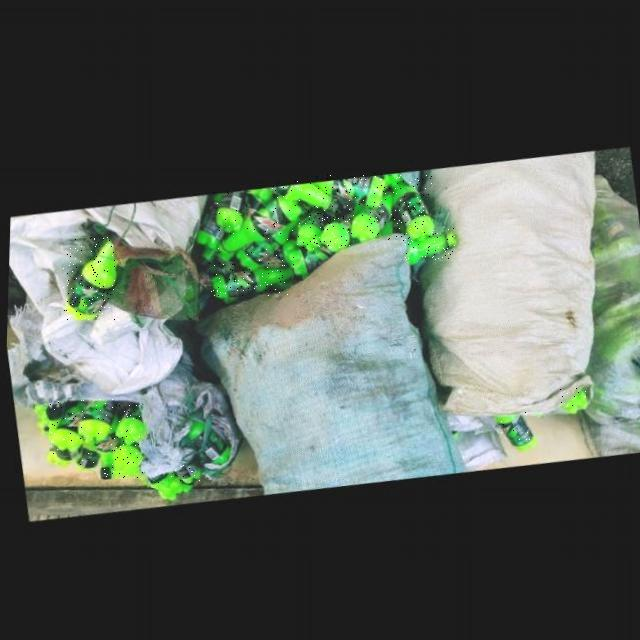plastic: (217, 192, 299, 251), (63, 237, 115, 319), (235, 215, 297, 267), (209, 263, 289, 297), (389, 175, 432, 237), (348, 187, 391, 239), (310, 172, 382, 202), (264, 180, 335, 208), (50, 399, 85, 452), (404, 228, 455, 261), (493, 409, 535, 446), (78, 399, 115, 440), (295, 205, 330, 248), (213, 188, 246, 229), (318, 210, 350, 248), (114, 405, 145, 442), (111, 436, 141, 468), (76, 439, 98, 470), (559, 384, 586, 408), (100, 465, 144, 478), (51, 444, 82, 460), (175, 463, 200, 481), (148, 470, 173, 487)
